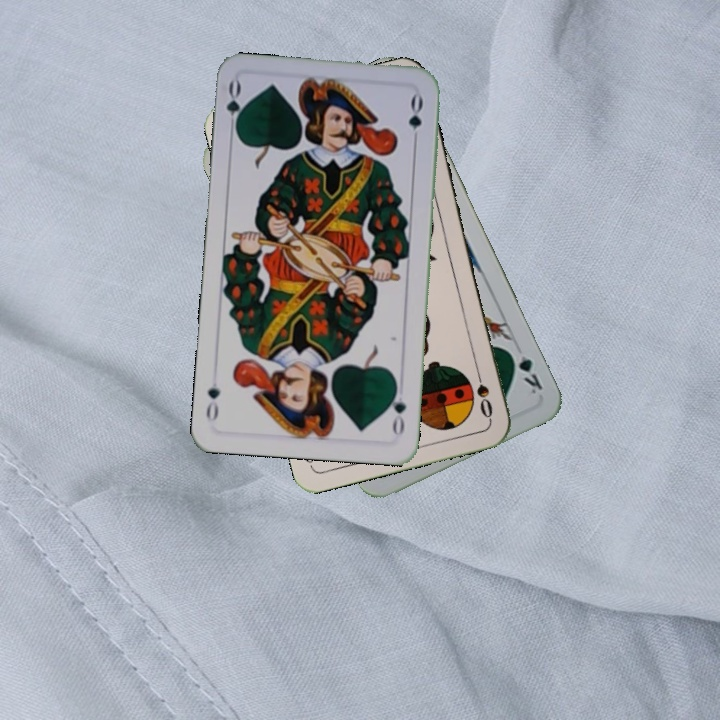GK: (505, 346, 546, 397)
GO: (222, 77, 248, 137), (386, 380, 409, 439)
SO: (471, 363, 496, 422)
